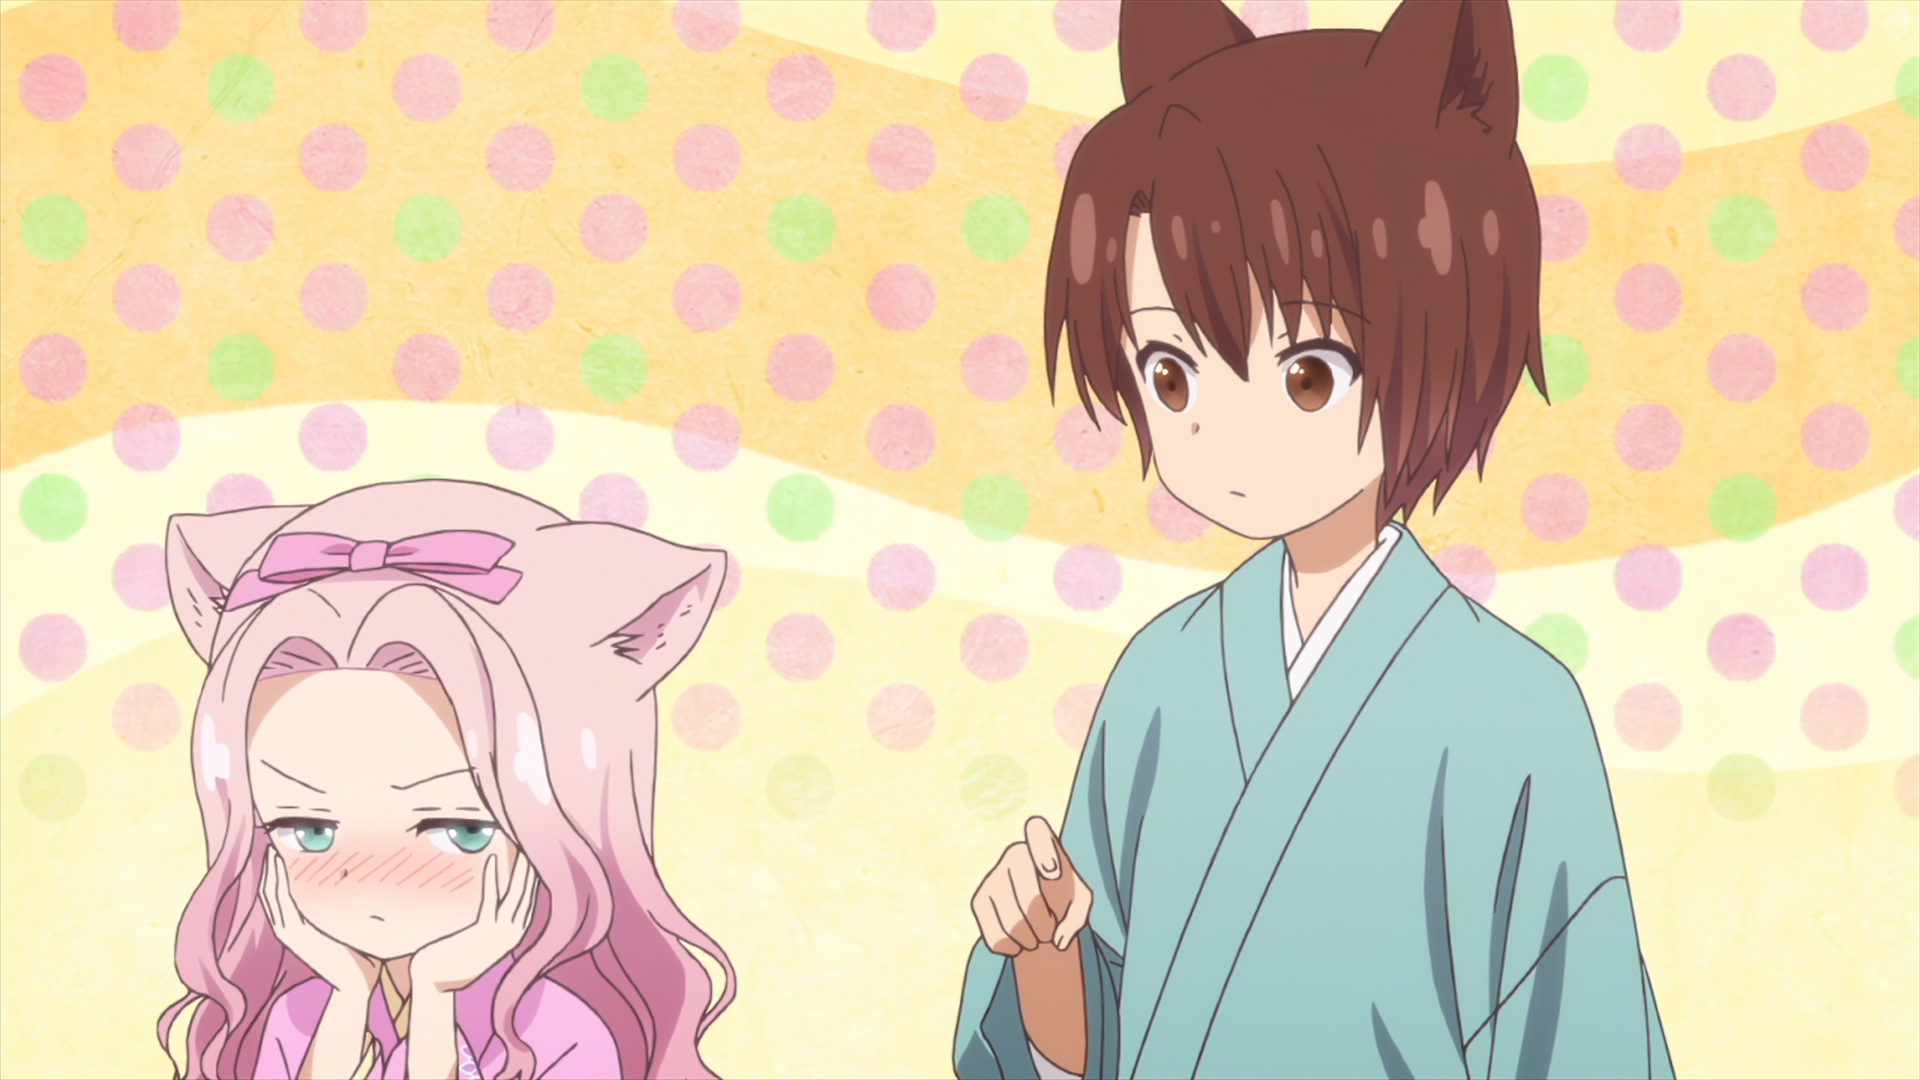枣: (949, 1, 1672, 1080)
莲: (157, 480, 728, 1080)
